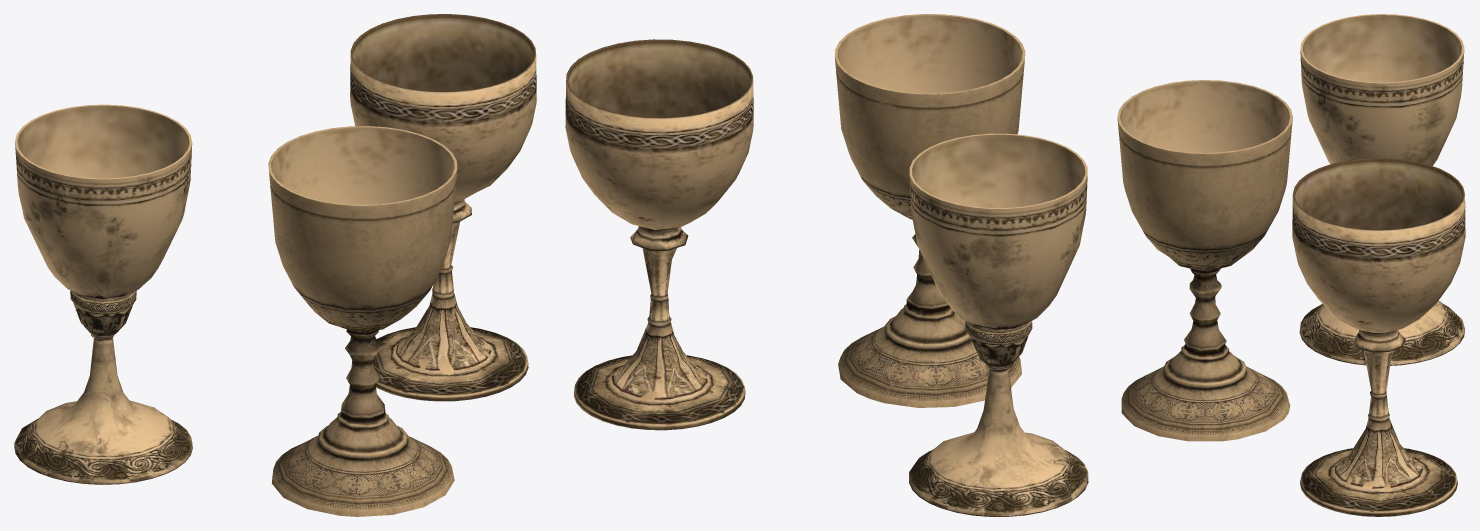
Rendered from brass_goblets.glb.
3 renders of one model, left to right at view 1: azimuth 30°, elevation 25°; view 2: azimuth 150°, elevation 25°; view 3: azimuth 270°, elevation 25°, orthographic. The views are drawn at different scales.
Parts seen in each view (by area): view 1: brass_goblet_01, brass_goblet_02, brass_goblet_03; view 2: brass_goblet_02, brass_goblet_03, brass_goblet_01; view 3: brass_goblet_01, brass_goblet_03, brass_goblet_02.
Boxes of the visible parts, box(x1,y1,x2,y2) form: brass_goblet_01: box(268, 126, 457, 516); brass_goblet_02: box(14, 104, 192, 484); brass_goblet_03: box(350, 14, 536, 401); brass_goblet_02: box(909, 133, 1088, 516); brass_goblet_03: box(565, 39, 753, 430); brass_goblet_01: box(834, 14, 1025, 407); brass_goblet_01: box(1117, 80, 1292, 441); brass_goblet_03: box(1292, 158, 1465, 516); brass_goblet_02: box(1299, 14, 1464, 365).
Bounding box in the file's own units: 0.4526 × 0.2734 × 0.2969.
3 materials, 3 textured.
